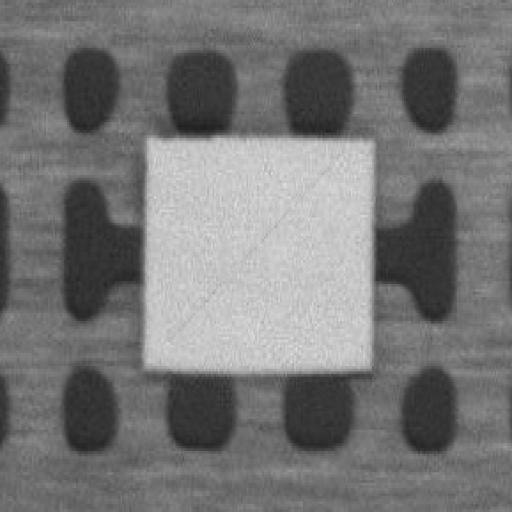DIE_CRACK: (250, 99, 510, 225)
